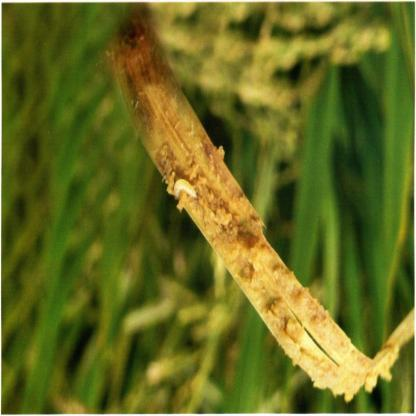whorl-maggot: (172, 172, 200, 208)
